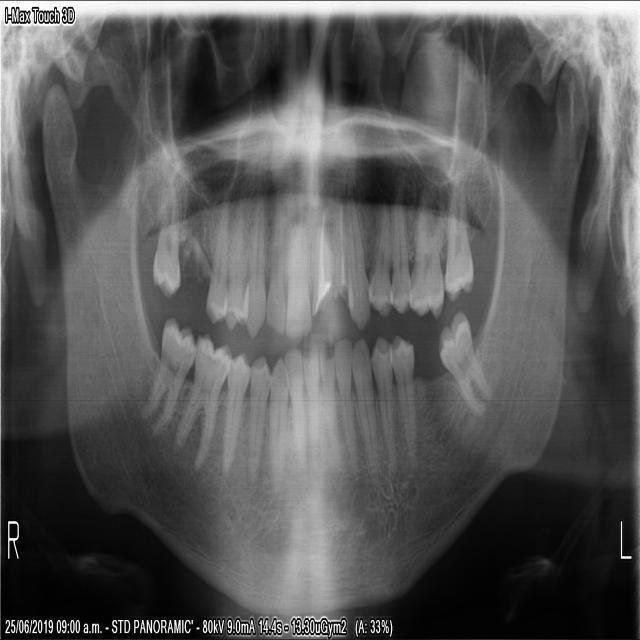LCD: (348, 334, 377, 472)
LCU: (343, 185, 371, 335)
LID: (331, 336, 356, 476), (318, 341, 339, 485)
LMD: (435, 306, 492, 417)
LMU: (404, 186, 445, 321), (442, 173, 474, 304)
LPMD: (386, 329, 418, 476), (367, 333, 398, 478)
LPMU: (365, 195, 392, 321), (386, 186, 411, 315)
RCD: (267, 354, 288, 496)
RCU: (240, 189, 264, 339)
RID: (281, 344, 306, 485), (301, 343, 320, 492)
RIU: (282, 201, 312, 344), (263, 201, 284, 337)
RMD: (169, 326, 231, 471), (142, 310, 197, 433)
RMU: (150, 189, 181, 302)
RPMD: (219, 348, 252, 477), (245, 352, 272, 490)
RPMU: (221, 196, 249, 330), (202, 193, 227, 326)
